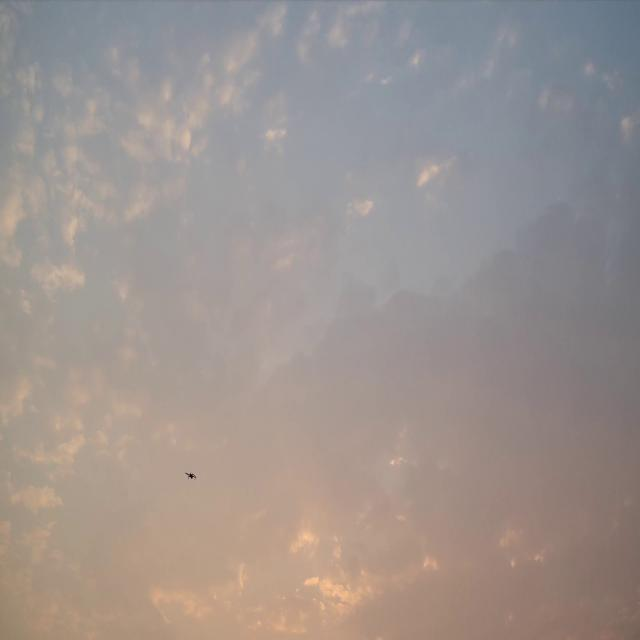UAV: (184, 471, 197, 480)
